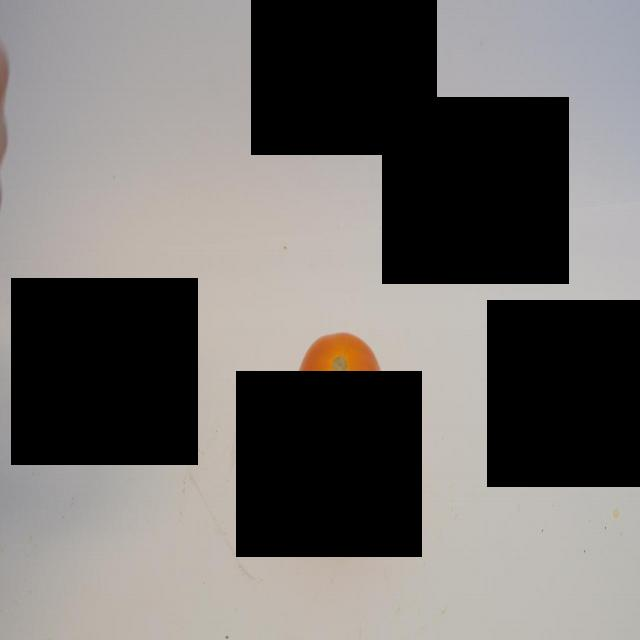tomato: (291, 330, 385, 504)
